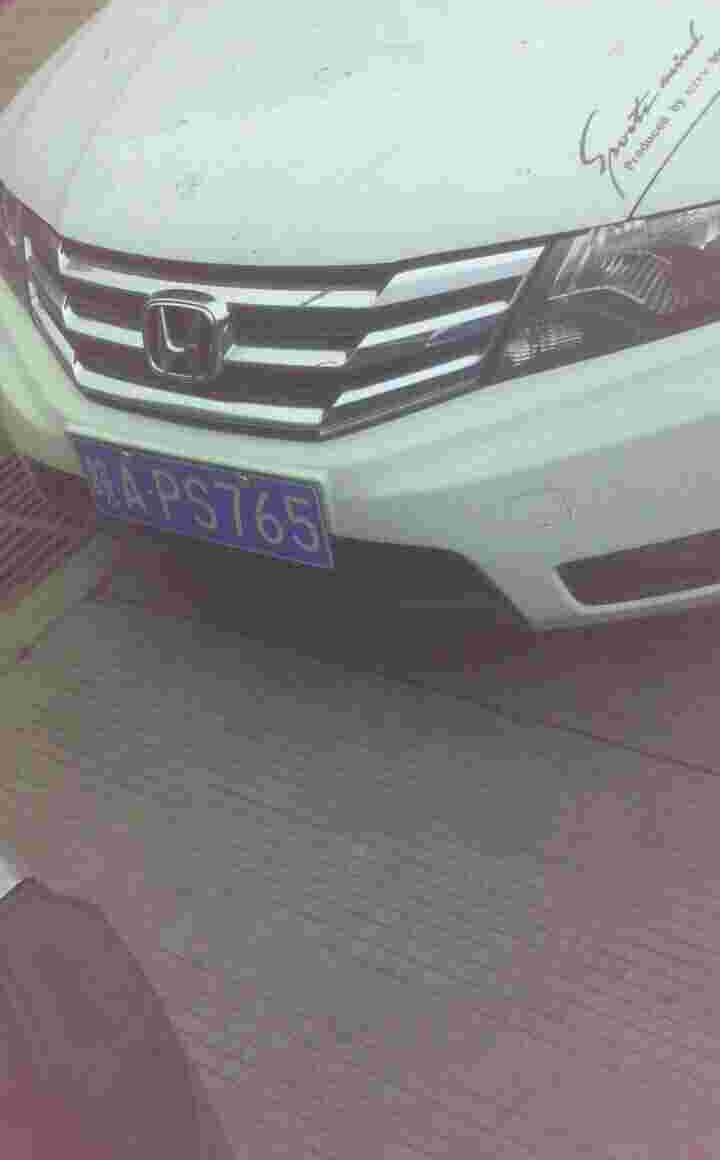license_plate: (77, 447, 335, 563)
